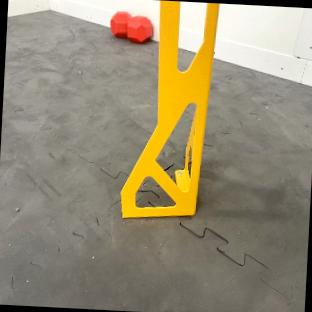V5_RED: (110, 10, 152, 42)
